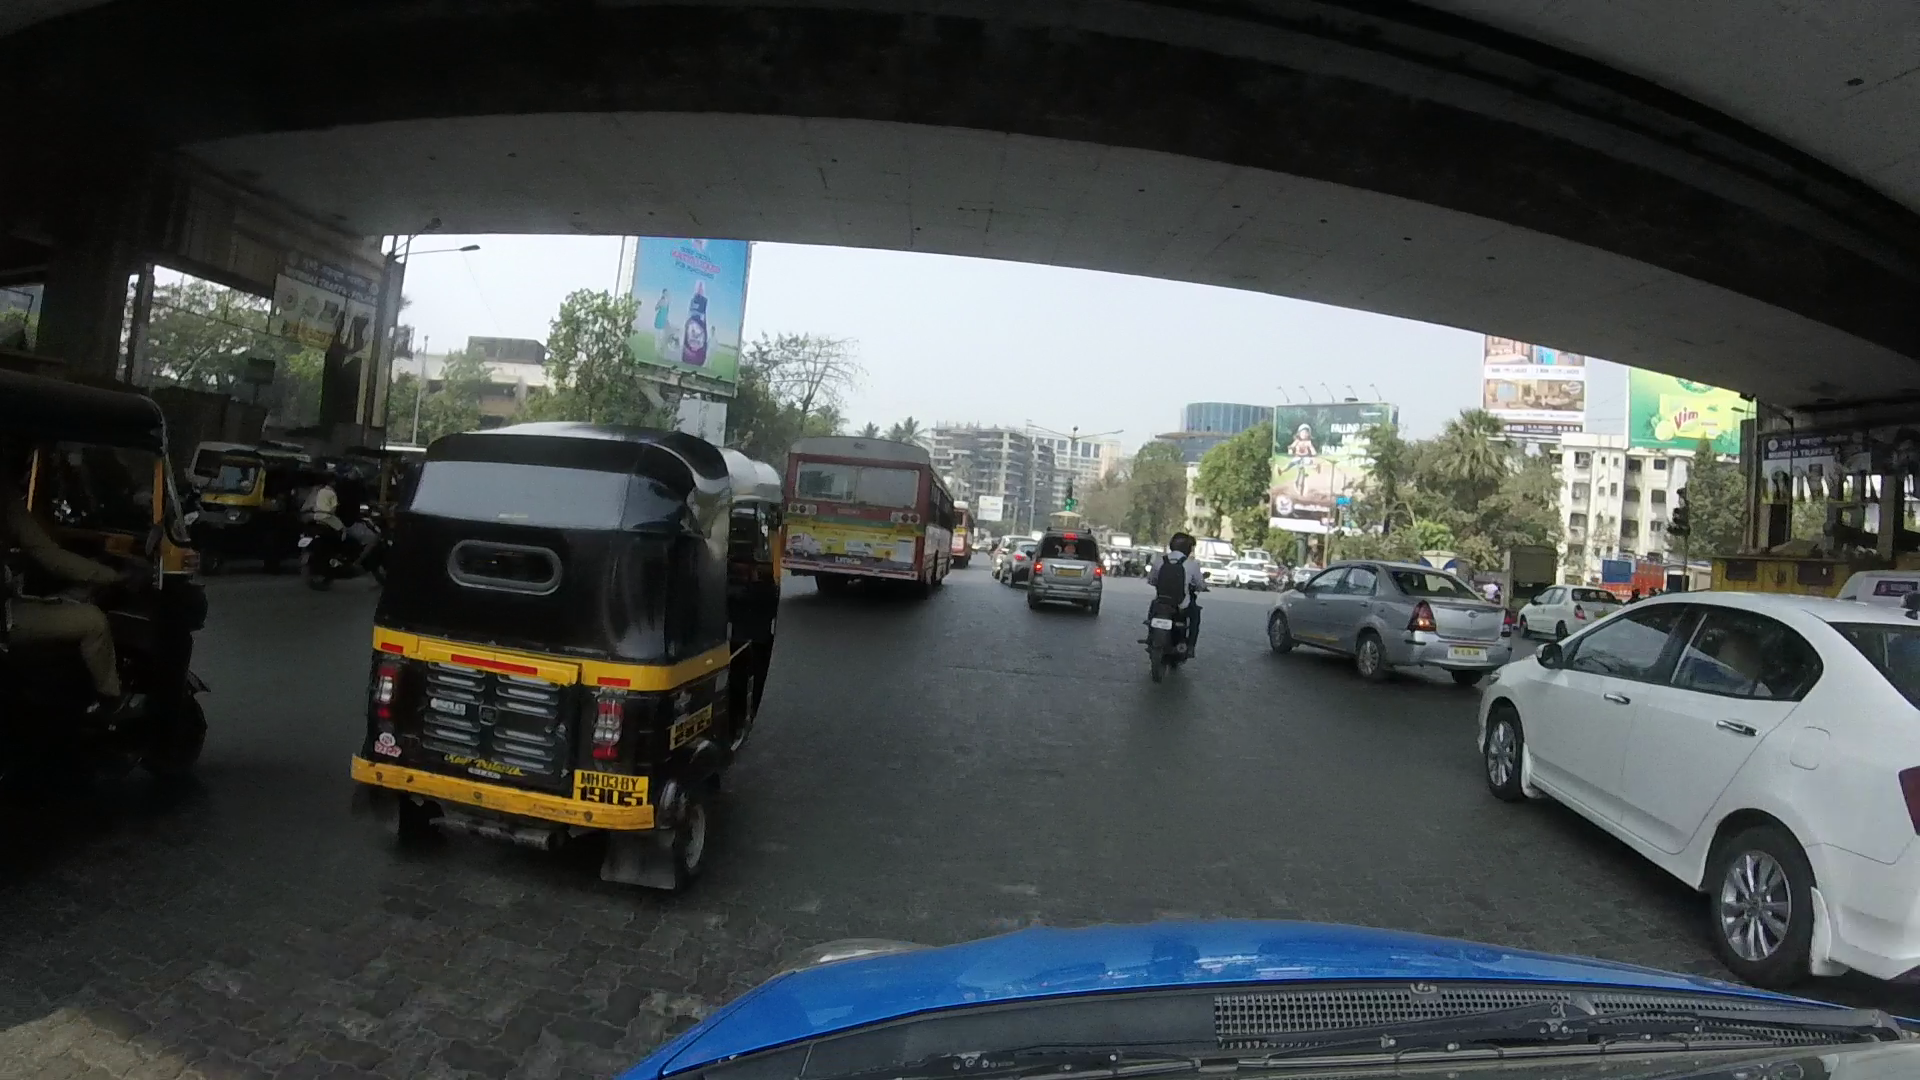bike/scooter: (1135, 534, 1233, 675)
bus: (771, 415, 968, 589)
car: (1474, 578, 1920, 985), (1269, 542, 1518, 690), (1007, 527, 1116, 618)
rickshaw: (339, 401, 818, 895), (1, 349, 257, 840)
